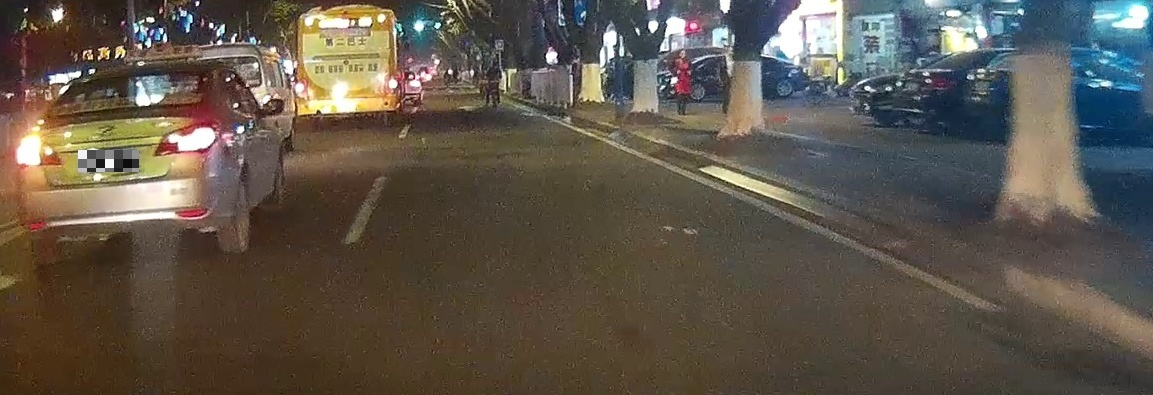L_light: (16, 134, 61, 167), (296, 79, 308, 100)
R_light: (152, 120, 221, 157), (385, 75, 397, 94)
T_light: (98, 106, 136, 111), (341, 13, 355, 17)
night-no: (14, 61, 225, 265), (295, 5, 398, 125)
plate_1: (78, 150, 139, 172)
